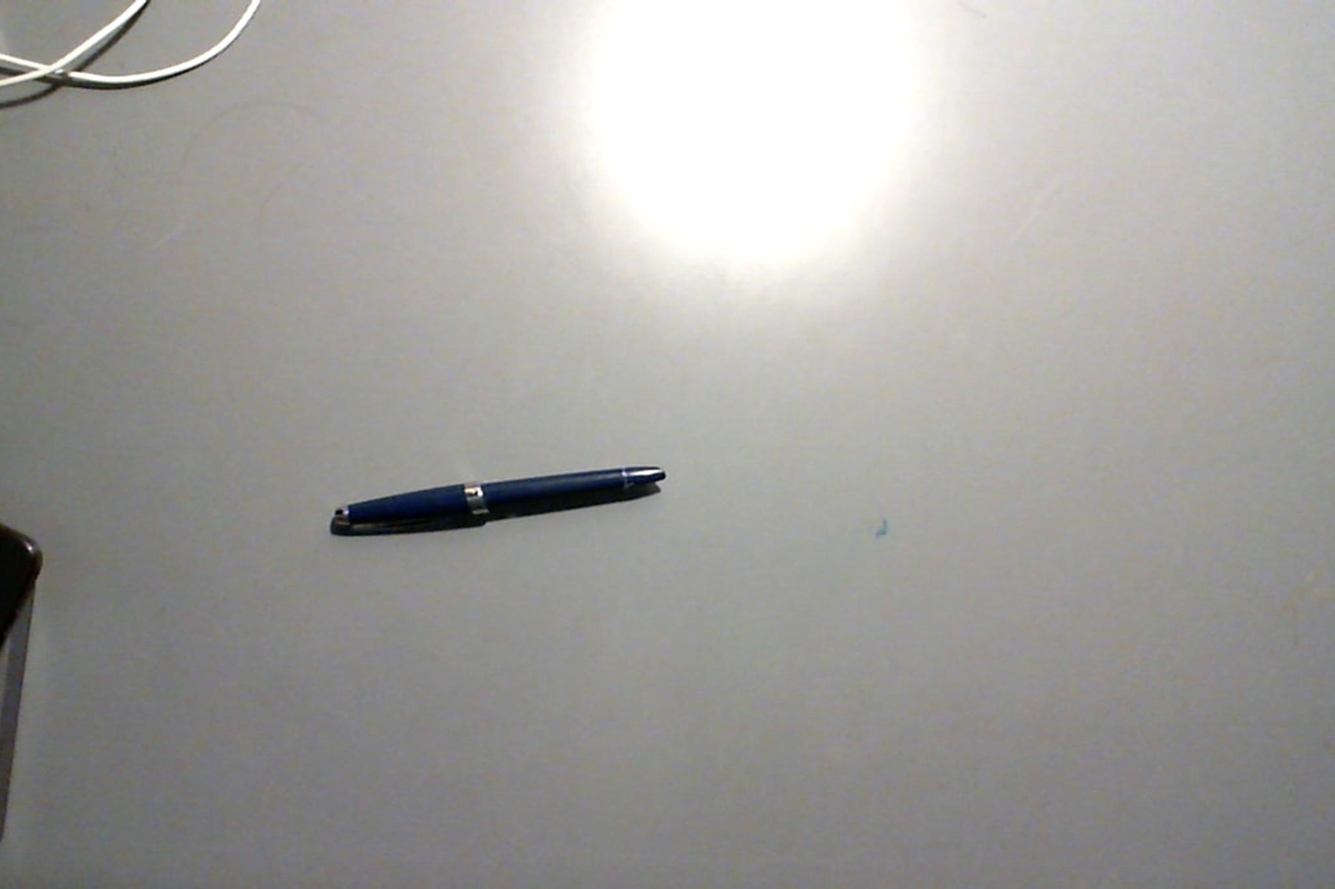pen-pencil: (329, 466, 666, 536)
